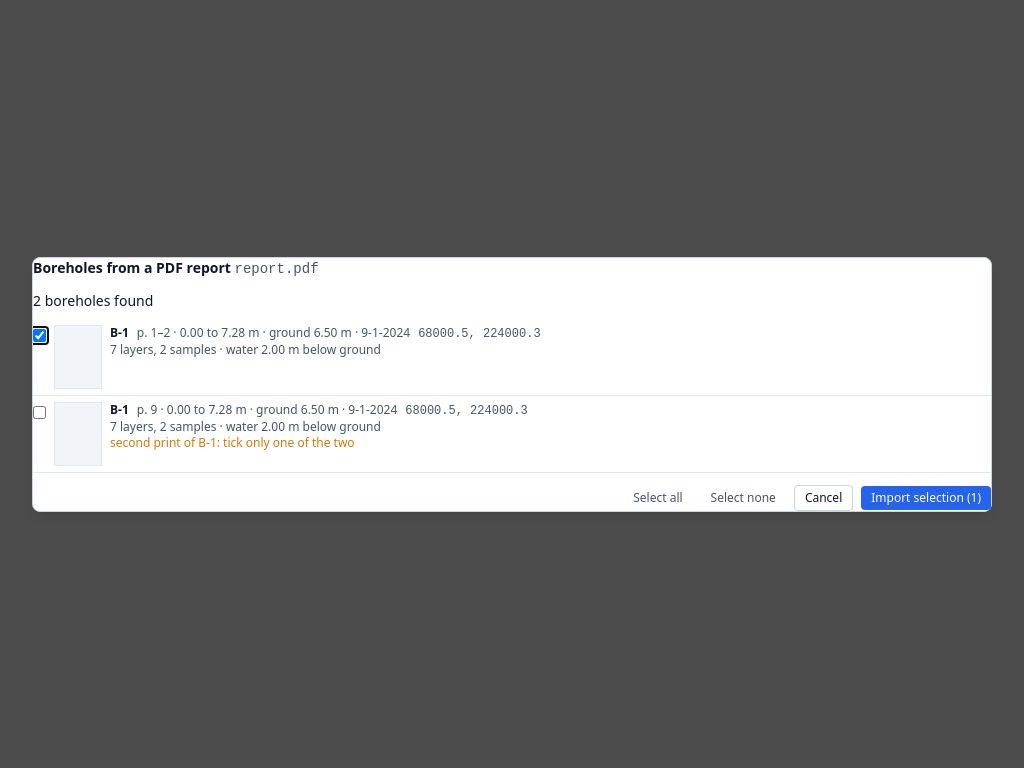
Test: BoreholePdfImportDialog › D5: two prints of one borehole ticked block the import
Click the 2nd checkbox named "B-1". click: {"x": 40, "y": 412}
box: [33,406,46,418]
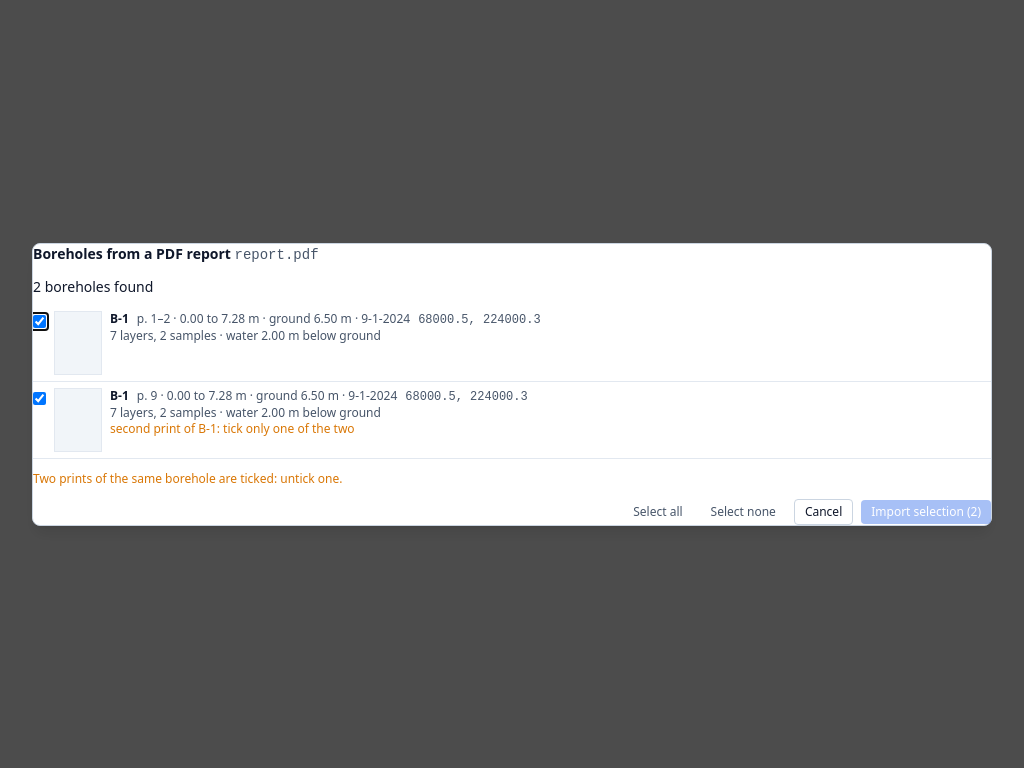
Now the text "Two prints of the same borehole are ticked: untick one." is shown, box [33,470,342,486]
Now the button with test id "borehole-pdf-import" is disabled, box [861,500,991,524]
